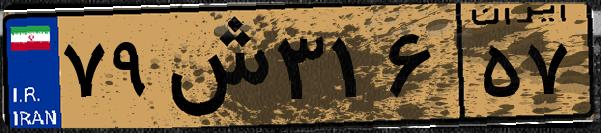1: (330, 28, 385, 110)
3: (270, 28, 330, 110)
5: (475, 38, 525, 113)
6: (385, 28, 445, 110)
7: (57, 26, 110, 100), (525, 38, 570, 115)
9: (110, 28, 158, 98)
ش: (158, 12, 270, 120)
